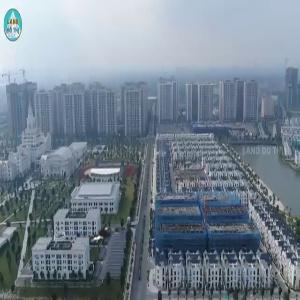drone: (65, 199, 159, 293)
